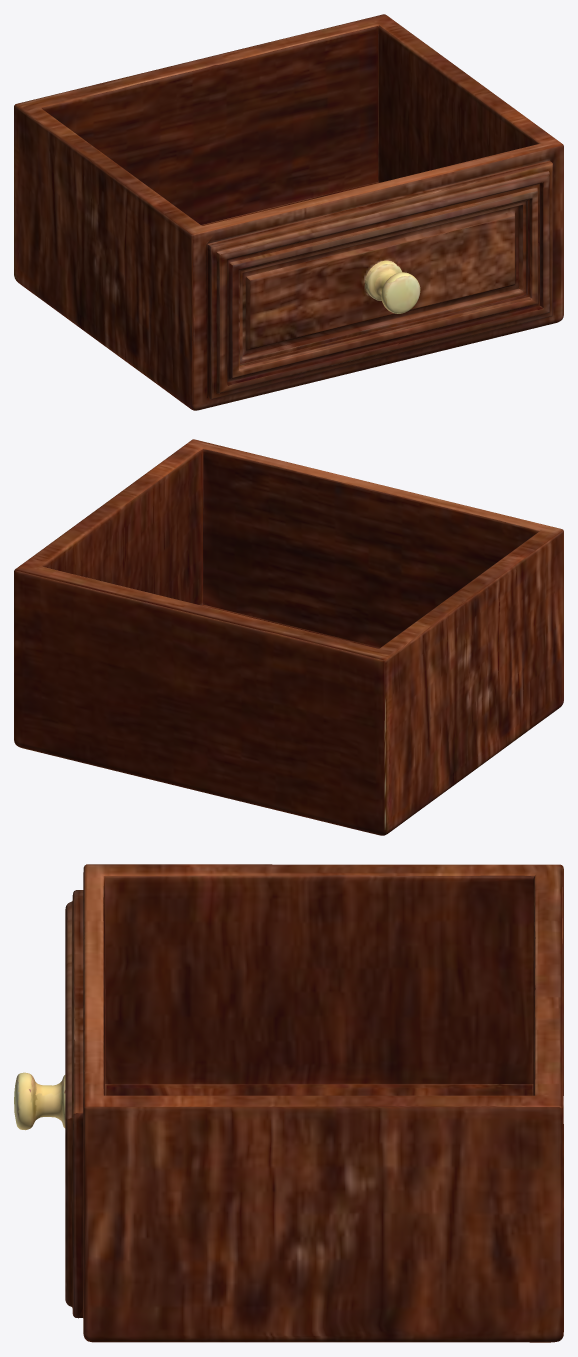
File: drawer.glb
3 views of the same model, one above another, from view 1: azimuth 30°, elevation 25°; view 2: azimuth 150°, elevation 25°; view 3: azimuth 270°, elevation 25° (orthographic). The views are drawn at different scales.
Visible parts, largest first — view 1: drawer; view 2: drawer; view 3: drawer.
Boxes of the visible parts, <box> form: drawer: <box>14,14,563,410</box>; drawer: <box>14,439,563,835</box>; drawer: <box>14,864,563,1342</box>.
Size of the model in its own units: 2.17 by 1 by 2.08.
Materials: 1 (1 with a texture image).
